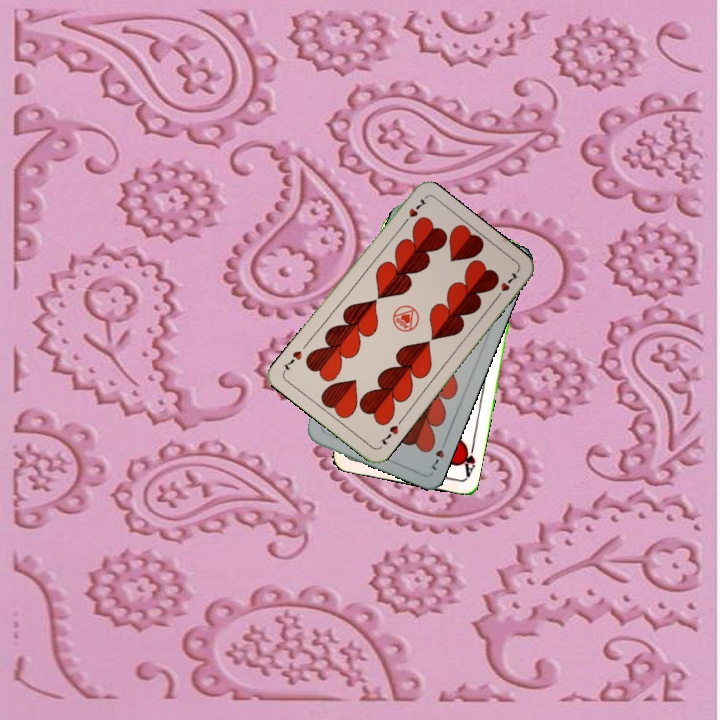H7: (398, 195, 429, 228), (376, 416, 405, 448), (427, 435, 449, 473)
HA: (457, 440, 478, 480)
